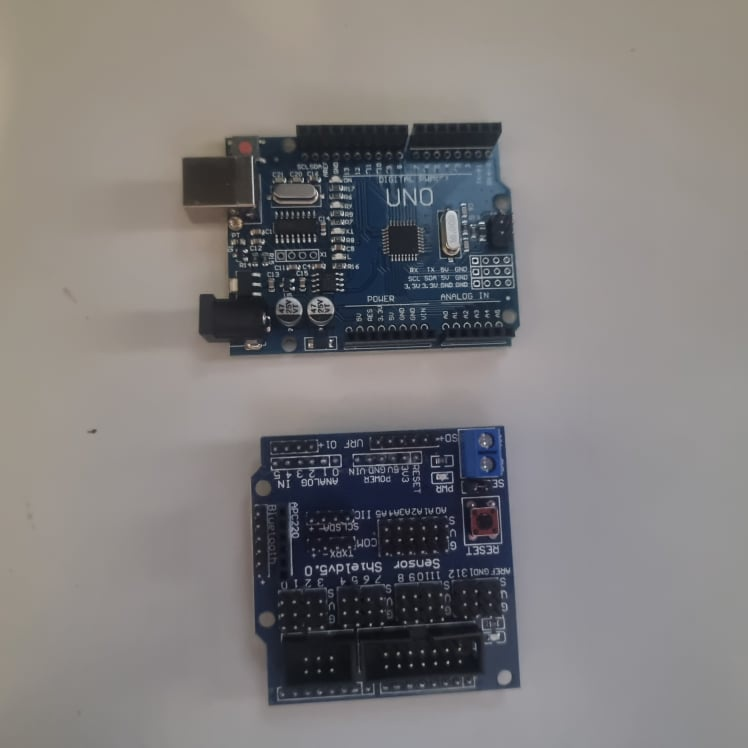5V EXPANSION: (248, 422, 524, 709)
UNO R3: (182, 120, 527, 349)
